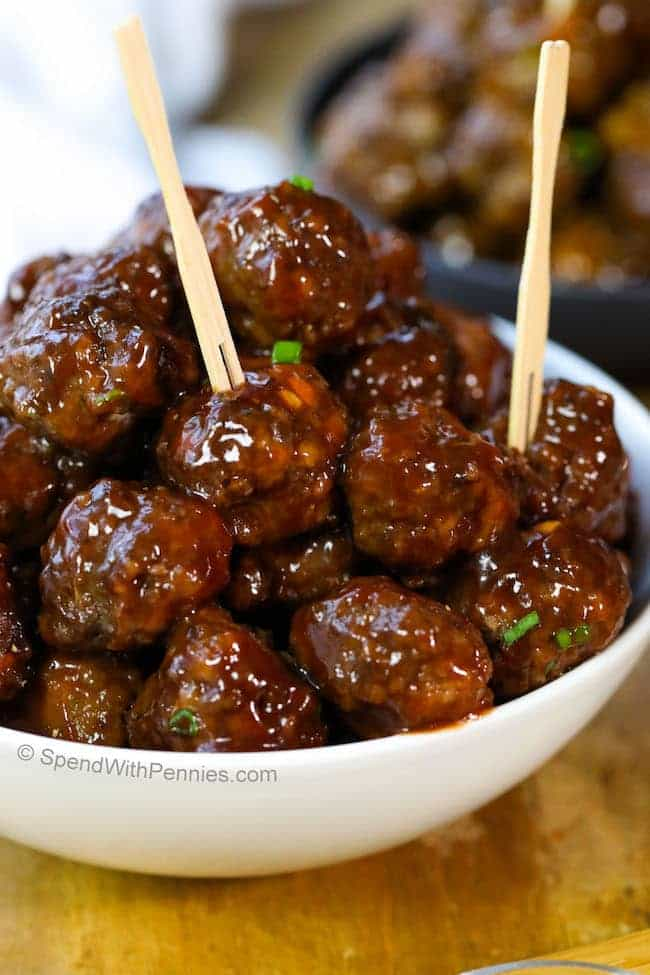meatballs: (36, 260, 493, 714)
